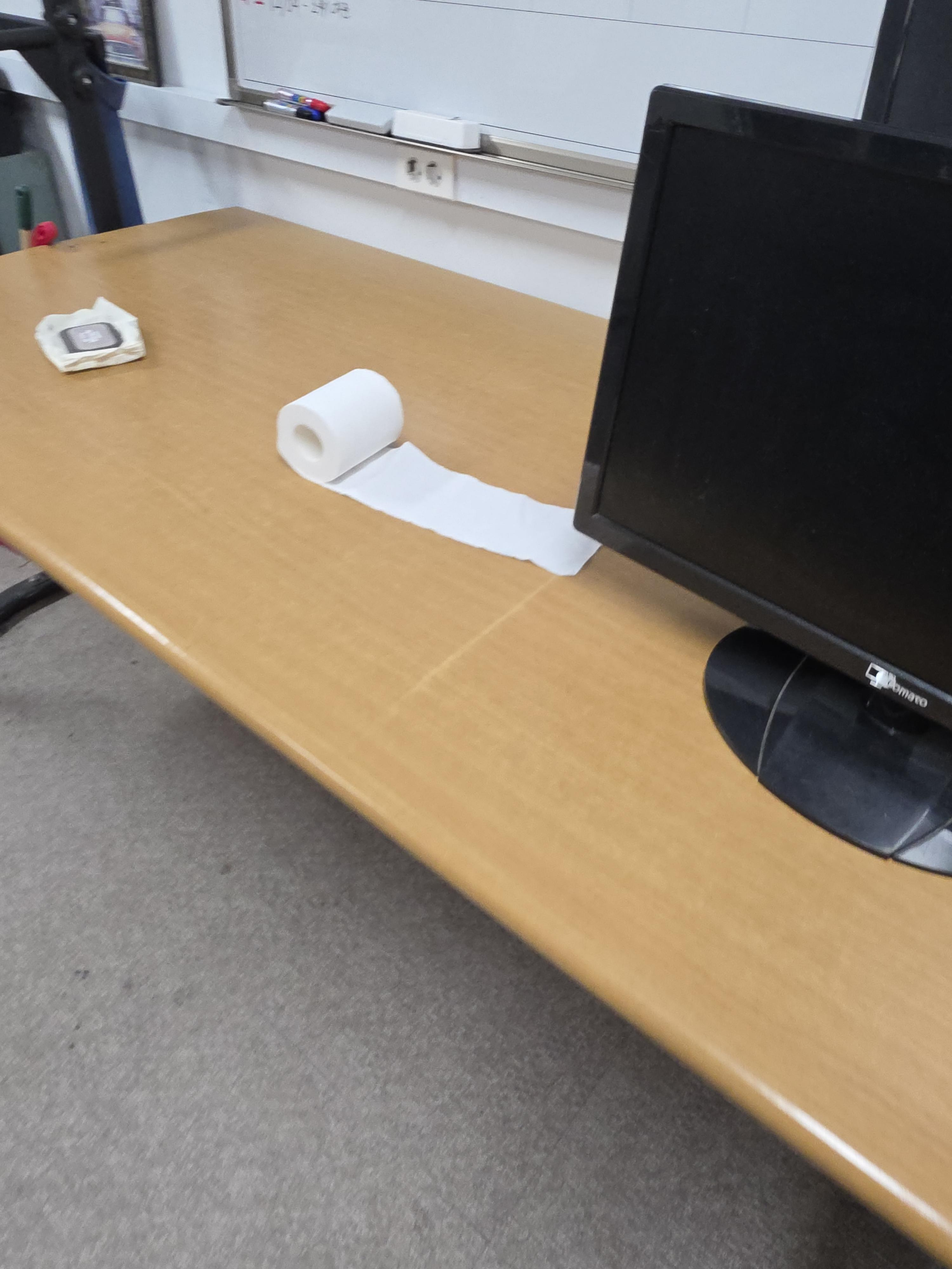tissue: (276, 368, 601, 576), (35, 296, 146, 374)
